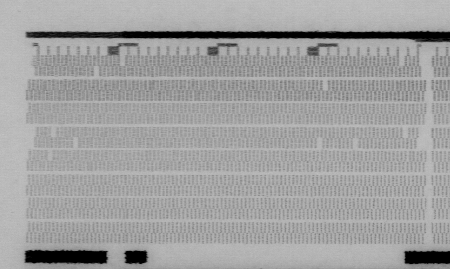Broken hole: (417, 54, 429, 80), (416, 126, 429, 149), (26, 126, 38, 150), (27, 54, 37, 79), (45, 149, 56, 162), (118, 54, 127, 69), (315, 137, 325, 150), (401, 125, 409, 140), (50, 126, 59, 139), (397, 53, 406, 66), (321, 79, 330, 91), (352, 137, 361, 149), (72, 137, 80, 150), (92, 65, 100, 77)
